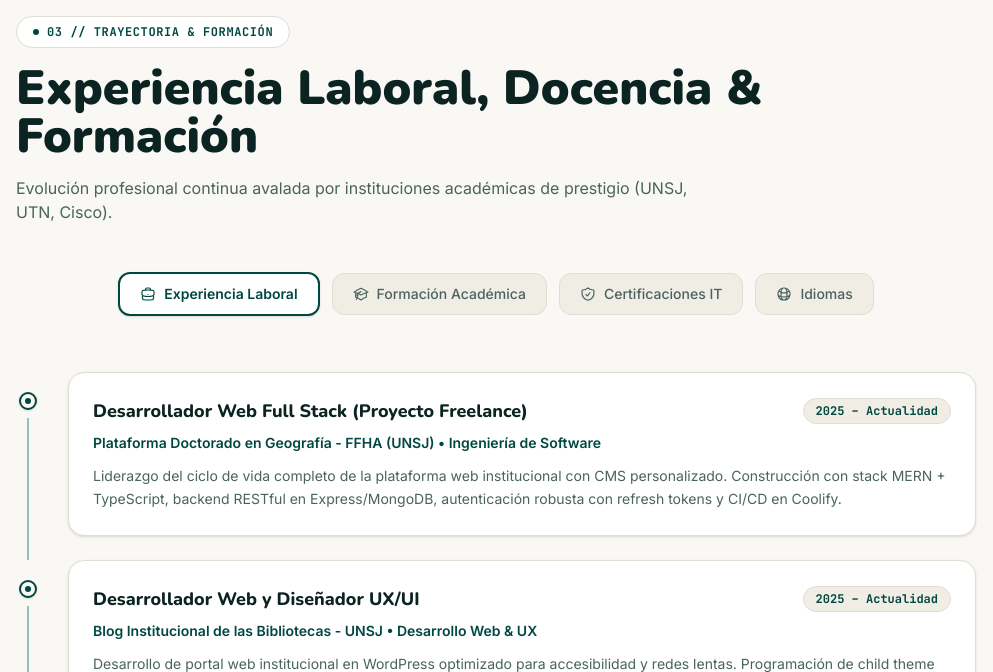
Scenario: TimelineSection › switches tab to Formación Académica and updates items
The width and height of the screenshot is (993, 672).
Click the button "Formación Académica": (439, 294) [332,273,547,315]
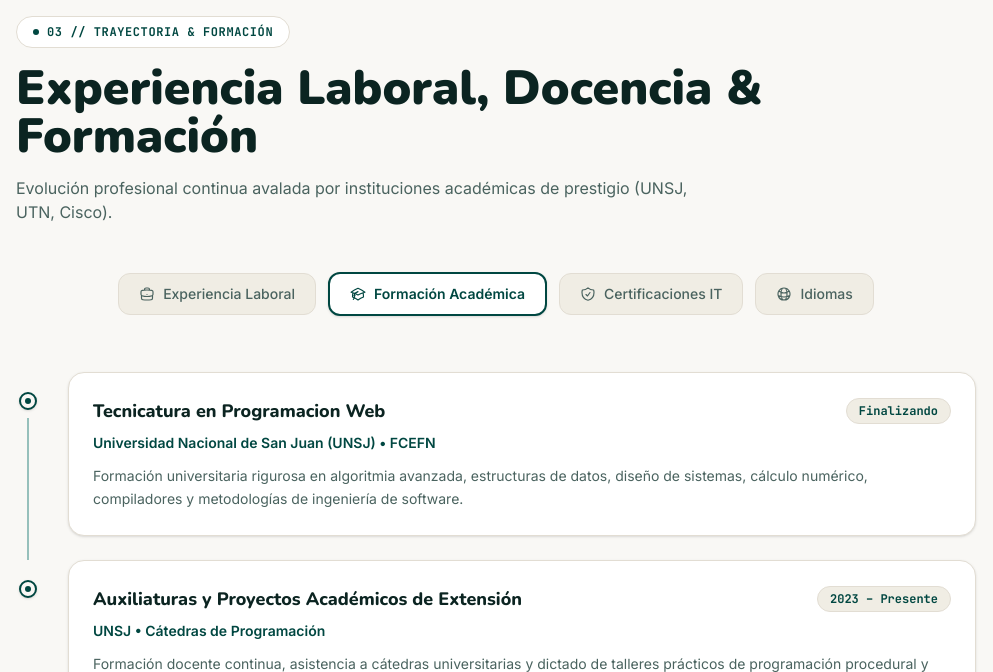
expect the heading "Tecnicatura en Programacion Web" is shown: met, box [93,397,385,425]
